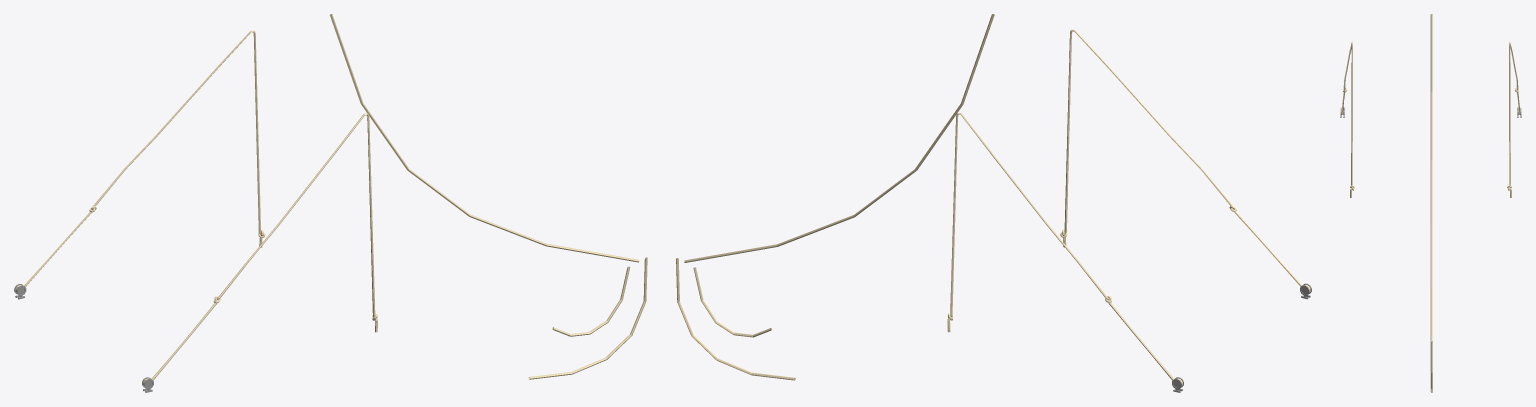
Rendered from sail_pulley.fbx.
The picture shows the model from 3 angles, left to right: view 1: azimuth 30°, elevation 25°; view 2: azimuth 150°, elevation 25°; view 3: azimuth 270°, elevation 25°; orthographic projection. The views are drawn at different scales.
Parts seen in each view (by area): view 1: sail_ropes; view 2: sail_ropes; view 3: sail_ropes.
Boxes of the visible parts, x1,y1,x2,y2 form: sail_ropes: (14, 14, 647, 392); sail_ropes: (676, 14, 1311, 392); sail_ropes: (1340, 14, 1521, 392).
Size of the model in its own units: 19.05 by 13.4 by 7.59.
